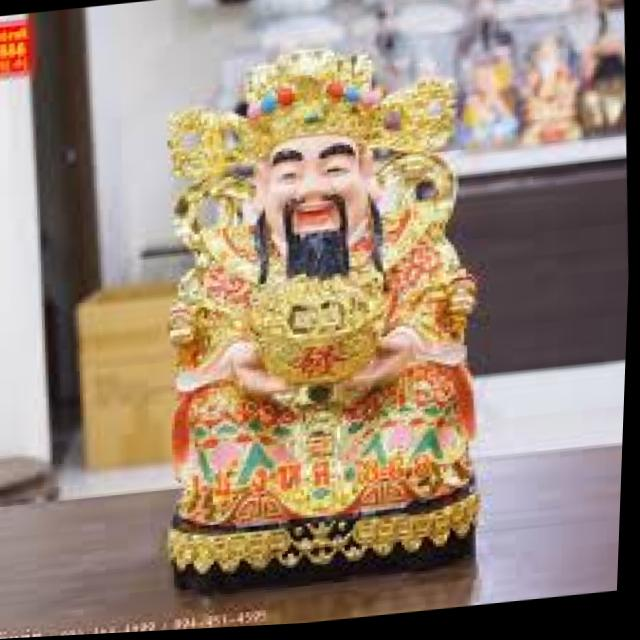Cai shen: (171, 29, 489, 556)
